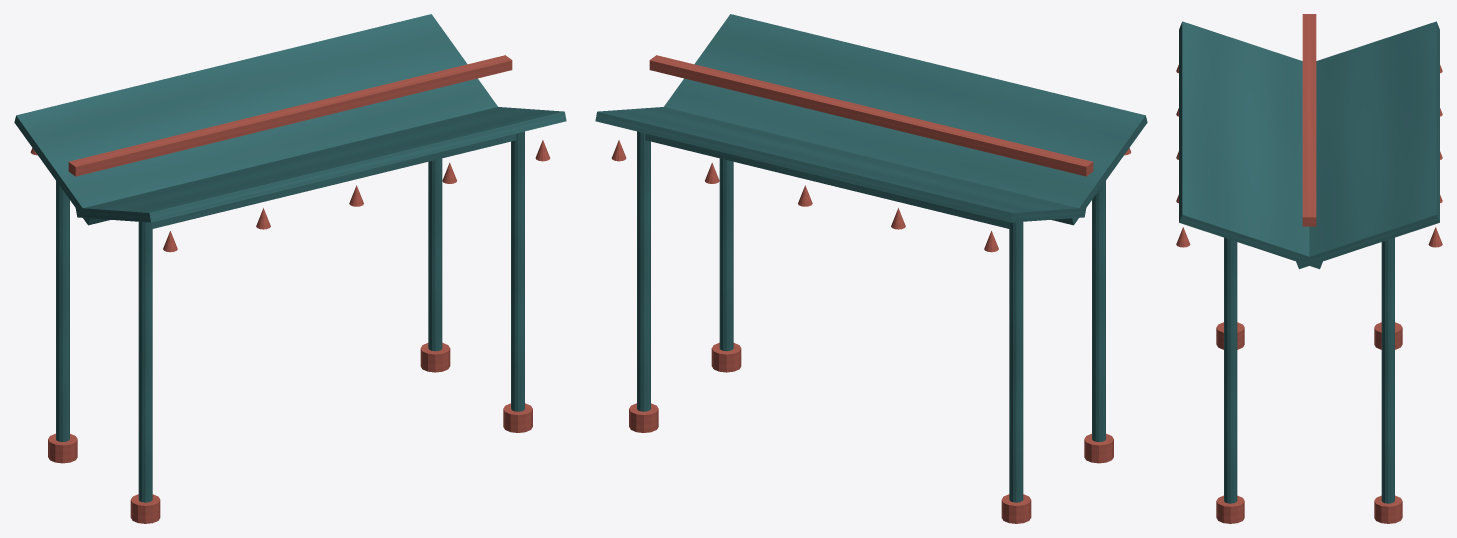
Rendered from atlas100-s031-a08.glb.
3 renders of one model, left to right at view 1: azimuth 30°, elevation 25°; view 2: azimuth 150°, elevation 25°; view 3: azimuth 270°, elevation 25°, orthographic. The views are drawn at different scales.
Visible parts, largest first — view 1: atlas100-s031-a08:part-010, atlas100-s031-a08:part-011, atlas100-s031-a08:part-022, atlas100-s031-a08:part-002, atlas100-s031-a08:part-006, atlas100-s031-a08:part-000, atlas100-s031-a08:part-004, atlas100-s031-a08:part-009, atlas100-s031-a08:part-003, atlas100-s031-a08:part-005, atlas100-s031-a08:part-007, atlas100-s031-a08:part-001; view 2: atlas100-s031-a08:part-011, atlas100-s031-a08:part-010, atlas100-s031-a08:part-022, atlas100-s031-a08:part-000, atlas100-s031-a08:part-004, atlas100-s031-a08:part-002, atlas100-s031-a08:part-006, atlas100-s031-a08:part-008, atlas100-s031-a08:part-001, atlas100-s031-a08:part-007, atlas100-s031-a08:part-005, atlas100-s031-a08:part-003; view 3: atlas100-s031-a08:part-010, atlas100-s031-a08:part-011, atlas100-s031-a08:part-004, atlas100-s031-a08:part-006, atlas100-s031-a08:part-022, atlas100-s031-a08:part-005, atlas100-s031-a08:part-007, atlas100-s031-a08:part-001, atlas100-s031-a08:part-003.
Part boxes in pixels (left/top/right/bottom): atlas100-s031-a08:part-010: left=14, top=14, right=497, bottom=225; atlas100-s031-a08:part-011: left=75, top=107, right=566, bottom=222; atlas100-s031-a08:part-022: left=68, top=55, right=512, bottom=176; atlas100-s031-a08:part-002: left=138, top=222, right=152, bottom=502; atlas100-s031-a08:part-006: left=511, top=131, right=524, bottom=411; atlas100-s031-a08:part-000: left=56, top=181, right=69, bottom=441; atlas100-s031-a08:part-004: left=428, top=158, right=442, bottom=351; atlas100-s031-a08:part-009: left=152, top=133, right=516, bottom=228; atlas100-s031-a08:part-003: left=130, top=494, right=160, bottom=523; atlas100-s031-a08:part-005: left=420, top=342, right=450, bottom=372; atlas100-s031-a08:part-007: left=503, top=403, right=532, bottom=432; atlas100-s031-a08:part-001: left=48, top=433, right=77, bottom=463; atlas100-s031-a08:part-011: left=664, top=14, right=1147, bottom=225; atlas100-s031-a08:part-010: left=595, top=107, right=1086, bottom=222; atlas100-s031-a08:part-022: left=649, top=55, right=1093, bottom=176; atlas100-s031-a08:part-000: left=1009, top=222, right=1023, bottom=502; atlas100-s031-a08:part-004: left=637, top=131, right=650, bottom=411; atlas100-s031-a08:part-002: left=1092, top=181, right=1105, bottom=441; atlas100-s031-a08:part-006: left=719, top=158, right=733, bottom=351; atlas100-s031-a08:part-008: left=645, top=133, right=1009, bottom=228; atlas100-s031-a08:part-001: left=1001, top=494, right=1031, bottom=523; atlas100-s031-a08:part-007: left=711, top=342, right=741, bottom=372; atlas100-s031-a08:part-005: left=629, top=403, right=658, bottom=432; atlas100-s031-a08:part-003: left=1084, top=433, right=1113, bottom=463; atlas100-s031-a08:part-010: left=1296, top=21, right=1439, bottom=269; atlas100-s031-a08:part-011: left=1179, top=21, right=1322, bottom=269; atlas100-s031-a08:part-004: left=1381, top=237, right=1394, bottom=503; atlas100-s031-a08:part-006: left=1224, top=237, right=1237, bottom=503; atlas100-s031-a08:part-022: left=1302, top=14, right=1316, bottom=226; atlas100-s031-a08:part-005: left=1374, top=495, right=1402, bottom=523; atlas100-s031-a08:part-007: left=1216, top=495, right=1244, bottom=523; atlas100-s031-a08:part-001: left=1374, top=322, right=1402, bottom=349; atlas100-s031-a08:part-003: left=1216, top=322, right=1244, bottom=349.
Bounding box in the file's own units: 6.1 × 4.41 × 3.38.
2 materials, 2 textured.
